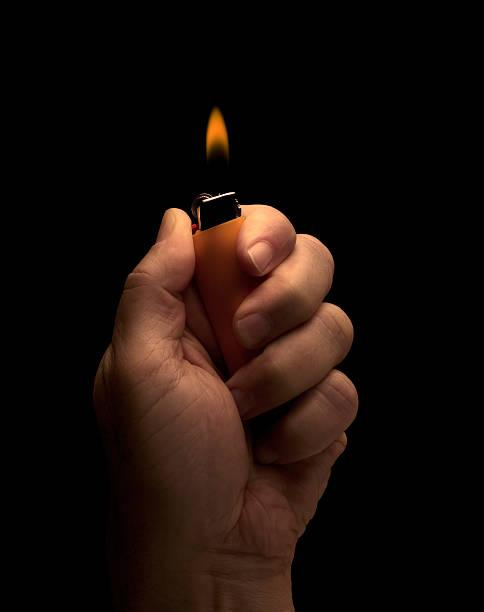Fire: (199, 105, 237, 170)
